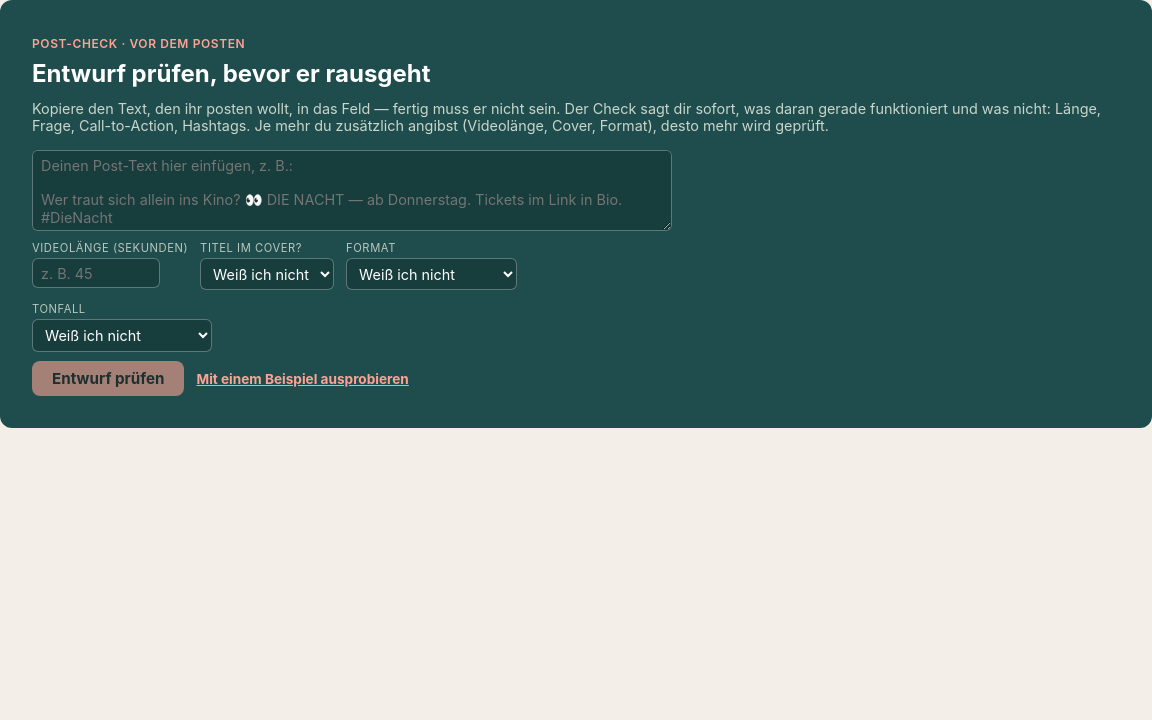
PostCheckBlock — Flag-Gate und Ablauf › prueft den Entwurf und zeigt Befunde mit Tipp
Expected: the heading "Entwurf prüfen, bevor er rausgeht" is shown, [32, 59, 430, 88]
Replace the text in the text box named "Caption-Entwurf" with "Traust du dich?" at (352, 191), box [32, 150, 672, 231]
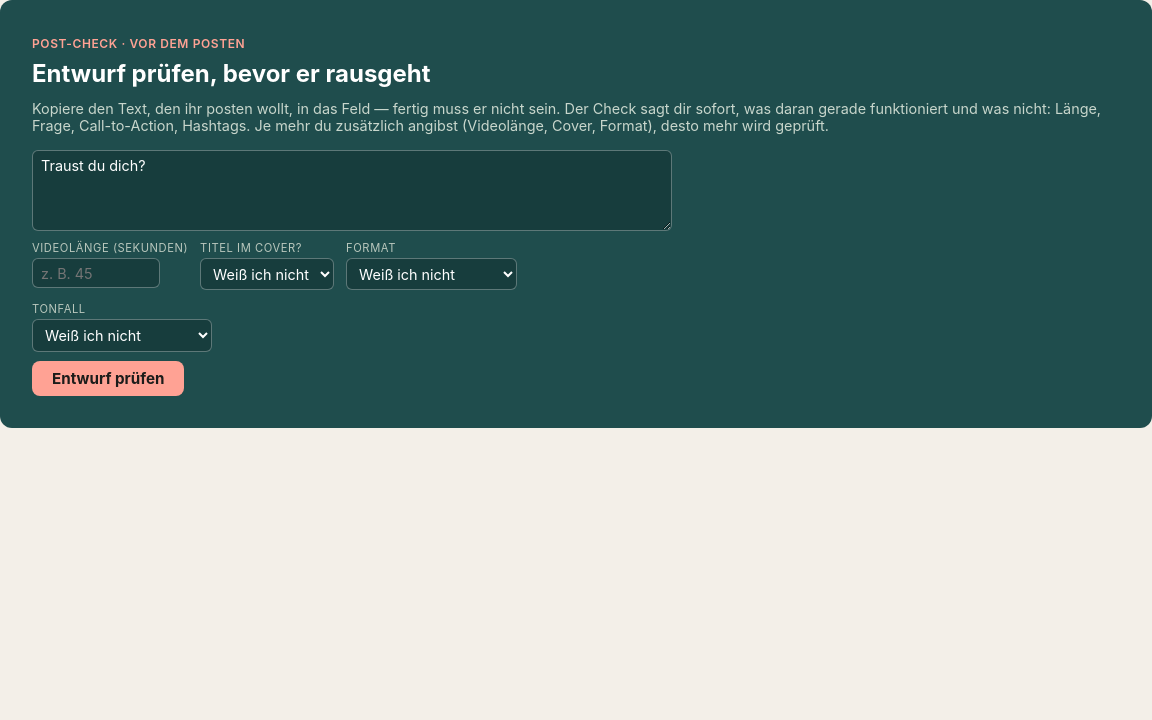
Click the button "Entwurf prüfen" at (108, 379), box [32, 361, 184, 396]
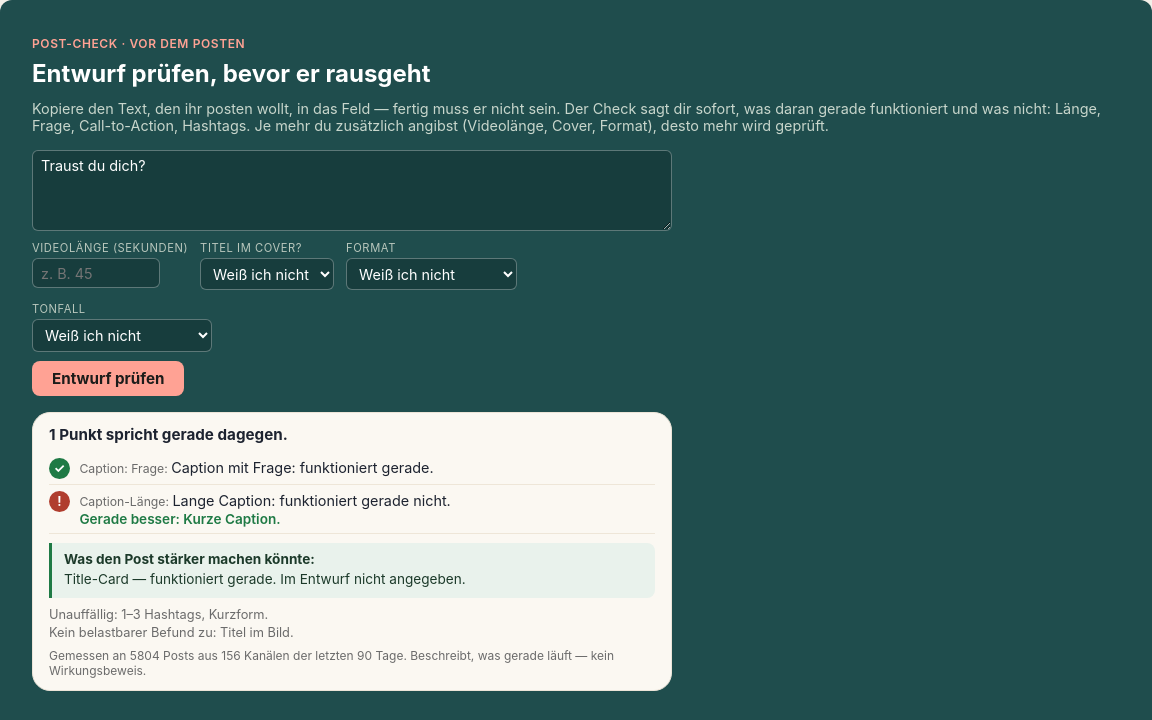
Result: the text "1 Punkt spricht gerade dagegen." is shown at [49, 425, 288, 444]
Result: the text "Was den Post stärker machen könnte:" is shown at [64, 551, 315, 567]
Result: the text "Title-Card — funktioniert gerade" is shown at [64, 571, 466, 587]
